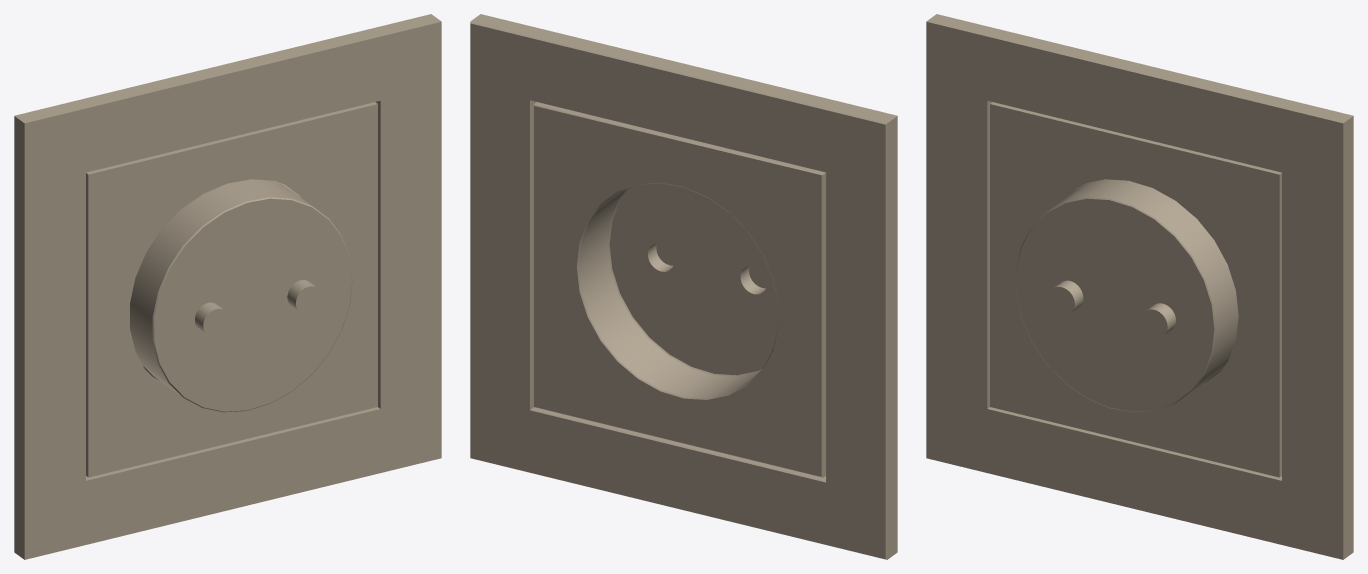
Rendered from Roz_bezh.glb.
3 renders of one model, left to right at view 1: azimuth 30°, elevation 25°; view 2: azimuth 150°, elevation 25°; view 3: azimuth 330°, elevation 25°, orthographic.
Parts seen in each view (by area): view 1: 003_bezh; view 2: 003_bezh; view 3: 003_bezh.
Part boxes in pixels (<box>): 003_bezh: <box>14,14,441,559</box>; 003_bezh: <box>470,14,897,559</box>; 003_bezh: <box>926,14,1353,559</box>.
Size of the model in its own units: 1.44 by 1.44 by 0.2355.
